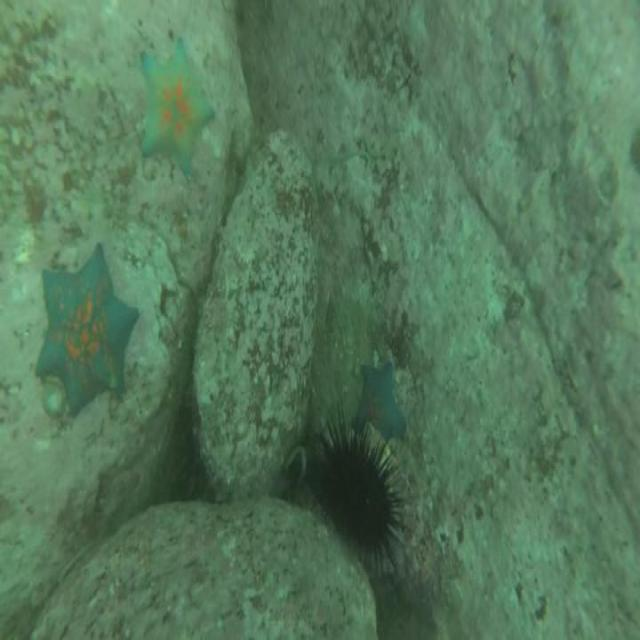echinus: (307, 403, 407, 574)
starfish: (36, 237, 140, 422), (139, 33, 216, 177), (351, 359, 409, 449)
